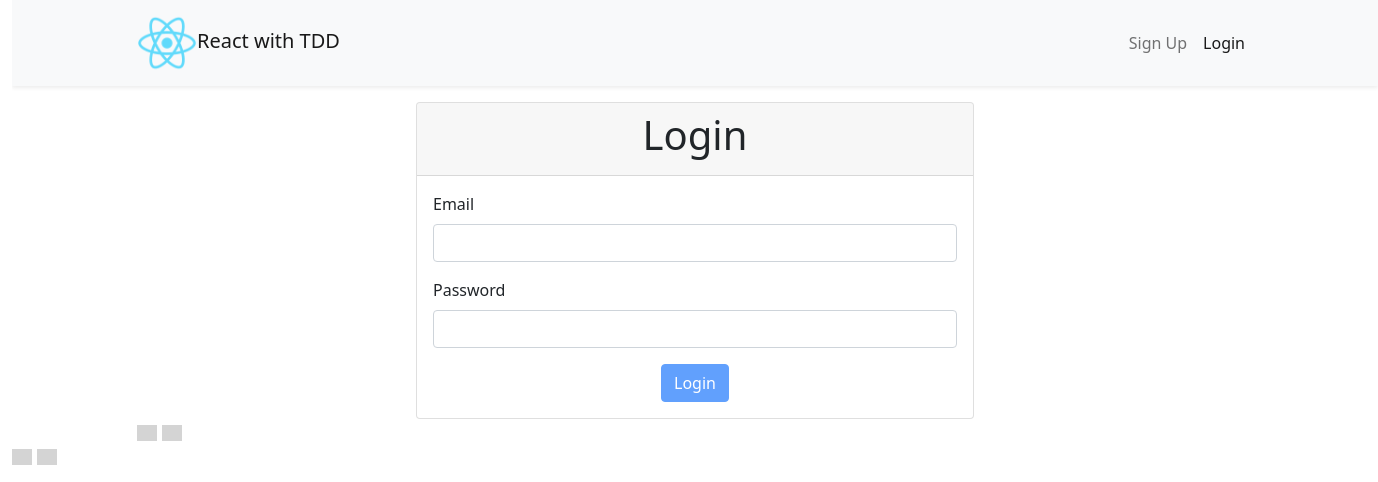
it: Login › redirects to homepage after successful login
The width and height of the screenshot is (1378, 482).
Type "user5@mail.com" into the field labelled "Email" at (695, 243), box [433,224,957,262]
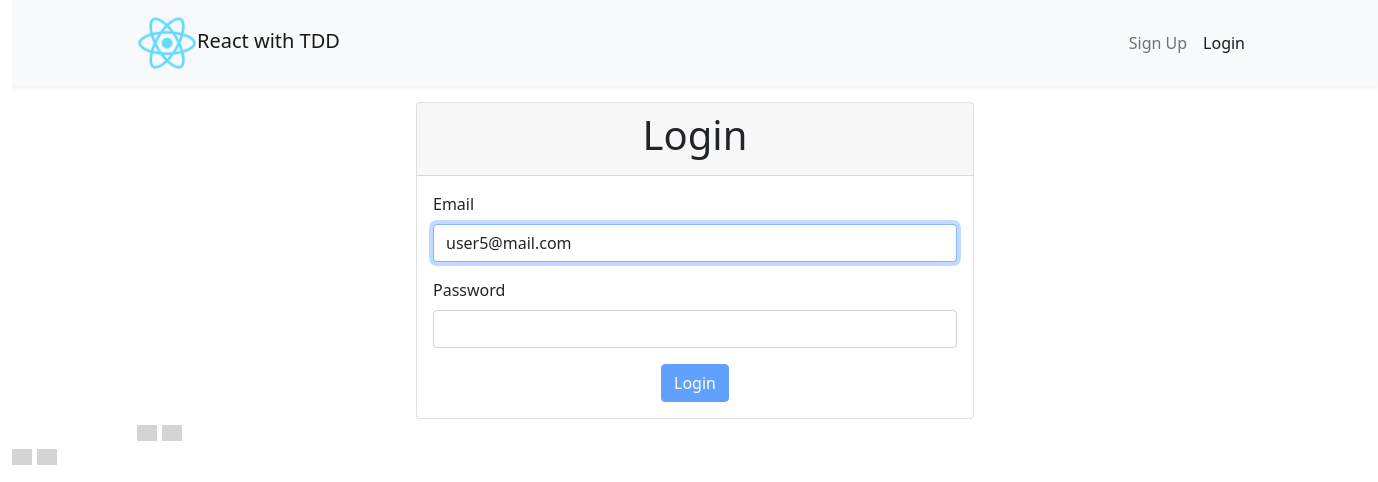
Type "P4ssword" into the password field labelled "Password" at (695, 329), box [433,310,957,348]
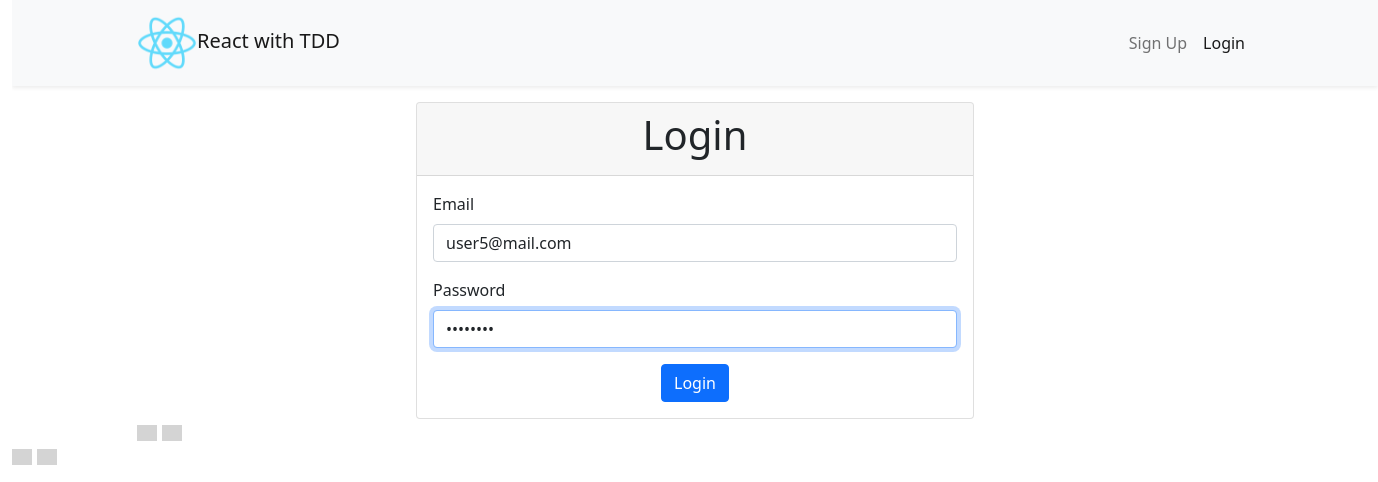
Click the button at (695, 383), box [661,364,729,402]
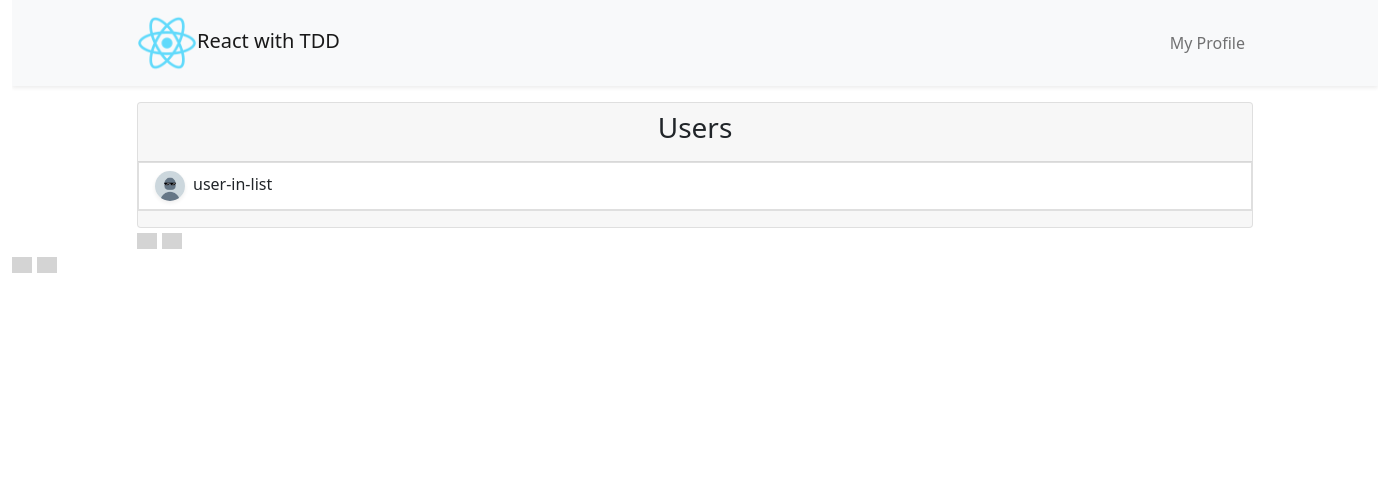
Check: the element with test id "home-page" is shown, box [137,102,1253,228]
